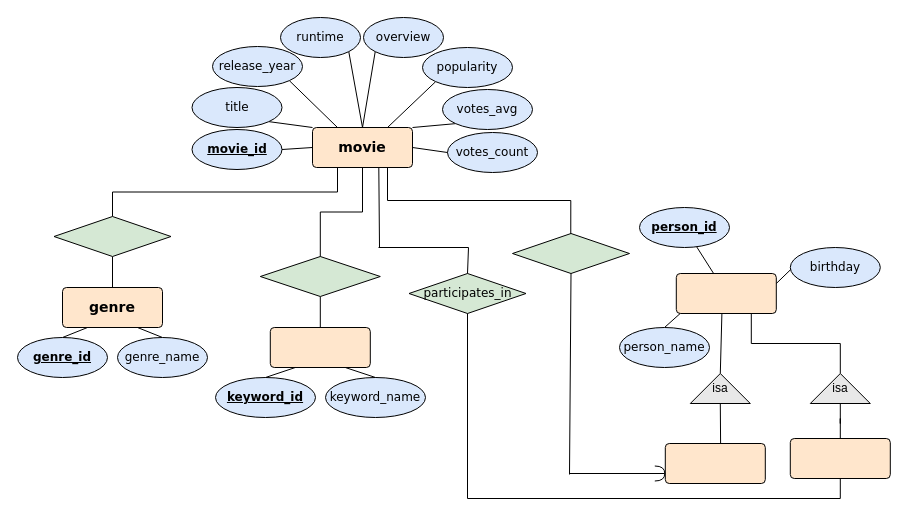
This 908x517 diagram has some shape labels left out. The shapes that lost their labels are listed below. From the top down, each one's centre as x and y in pixels, then its label:
(112,236): of_genre
(571,253): directed_by
(319,276): related_to
(725,293): person
(319,347): keyword
(714,463): director
(839,458): actor
